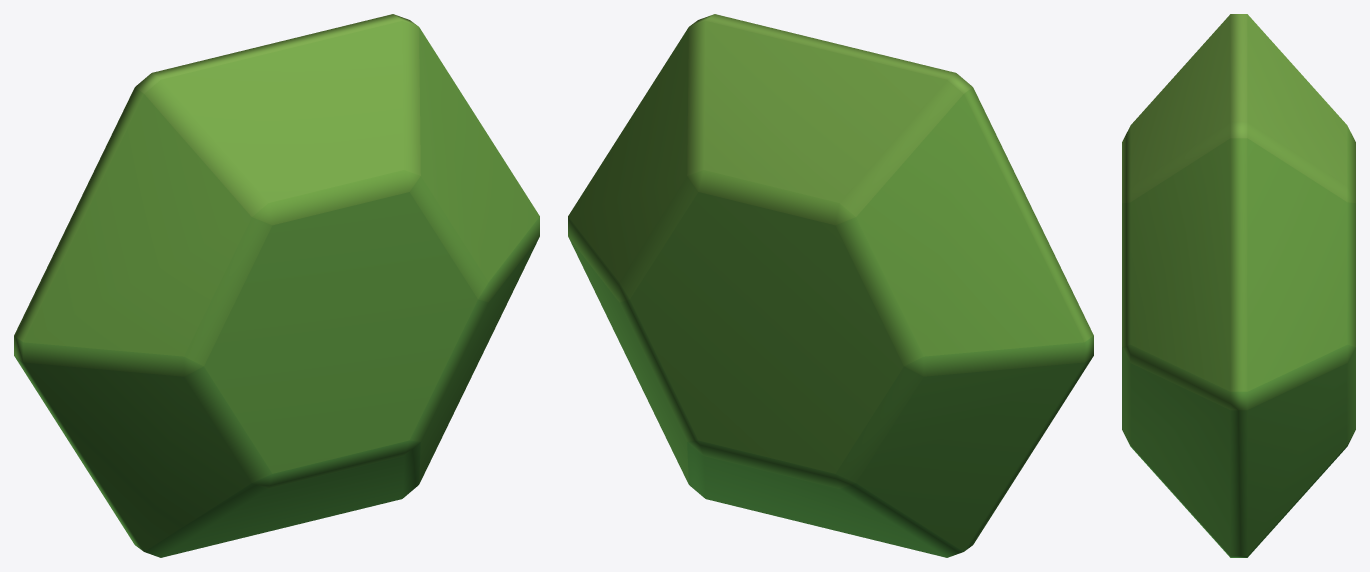
The model's file is gem_001.glb.
3 views of the same model, side by side, from view 1: azimuth 30°, elevation 25°; view 2: azimuth 150°, elevation 25°; view 3: azimuth 270°, elevation 25° (orthographic). The views are drawn at different scales.
Visible parts, largest first — view 1: Gem_001; view 2: Gem_001; view 3: Gem_001.
Boxes of the visible parts, x1,y1,x2,y2 form: Gem_001: [14, 14, 539, 557]; Gem_001: [568, 14, 1093, 557]; Gem_001: [1122, 14, 1355, 557].
Bounding box in the file's own units: 0.1662 × 0.147 × 0.0714.
